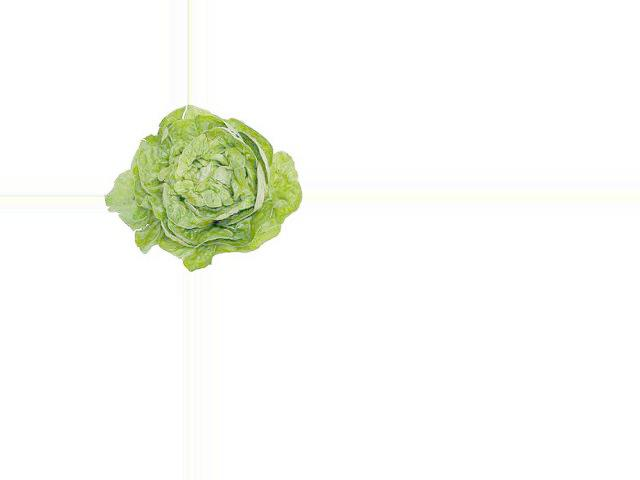lettuce: (114, 108, 267, 241)
